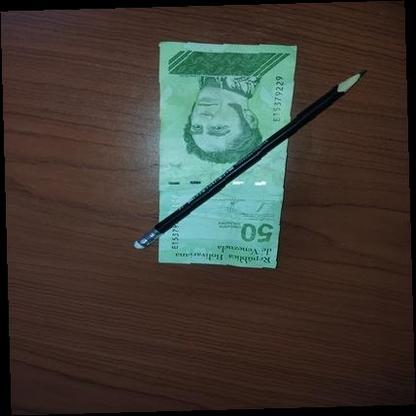fifty-front-vef: (157, 41, 296, 268)
